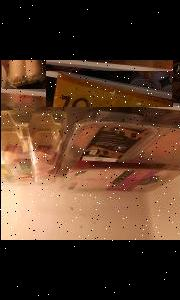Salchichas: (1, 60, 46, 87)
Tortillas de trigo: (45, 60, 172, 107)
